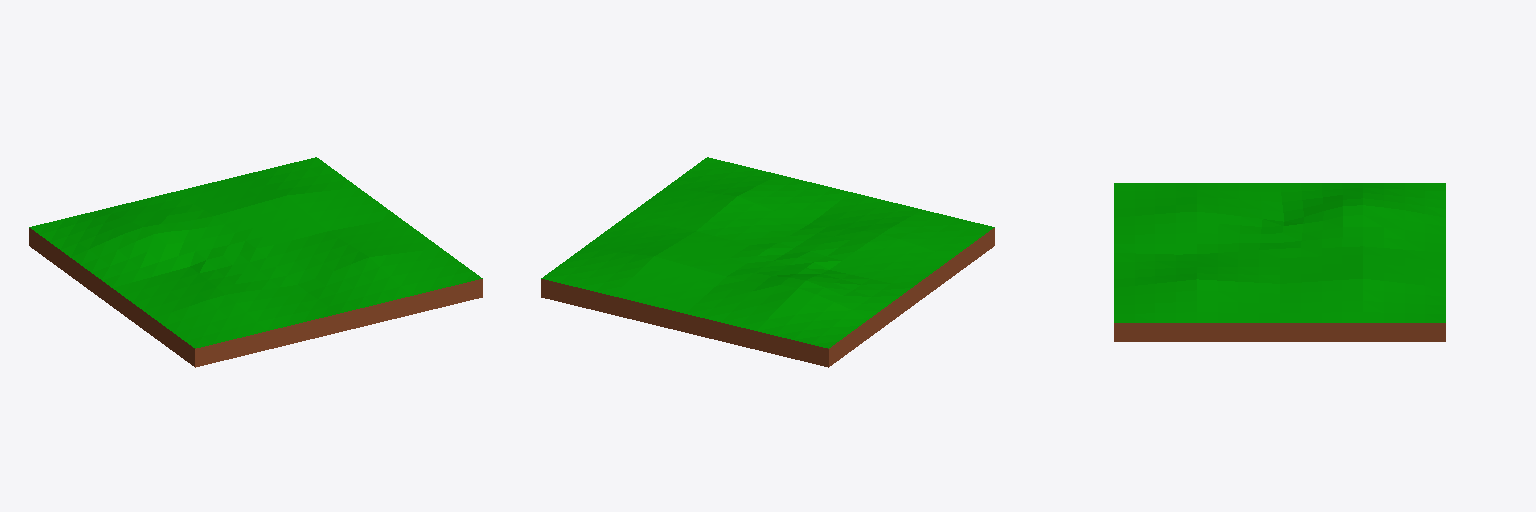
File: bumpy1.obj
3 renders of one model, left to right at view 1: azimuth 30°, elevation 25°; view 2: azimuth 150°, elevation 25°; view 3: azimuth 270°, elevation 25°, orthographic.
Parts seen in each view (by area): view 1: Cube; view 2: Cube; view 3: Cube.
Part boxes in pixels (bbox=[...]): Cube: bbox=[29, 157, 482, 367]; Cube: bbox=[541, 157, 994, 367]; Cube: bbox=[1114, 183, 1445, 341].
Size of the model in its own units: 16 by 1.67 by 16.